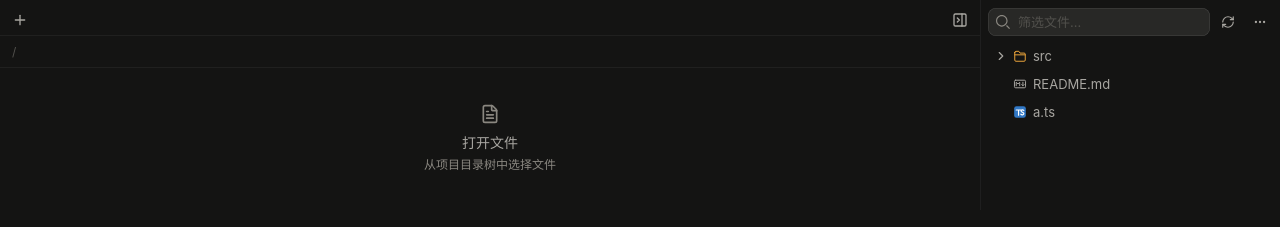
Scenario: FilesPane › filters through files.search as you type
Type "deep" into the search field with placeholder "筛选文件…" at (1111, 22), box 1018,8 -> 1204,36
Wait 250 ms
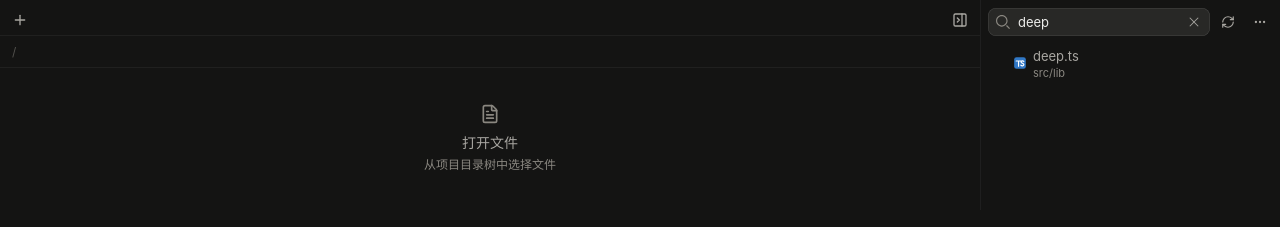
Now the text with class "file-tree-hint" reads "src/lib", box 1033,66 -> 1065,80
Press Escape in the search field named "筛选文件", box 1018,8 -> 1176,36
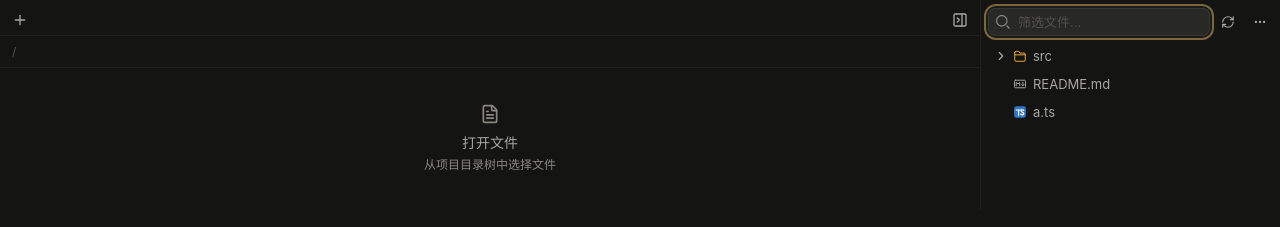
Now the search field with placeholder "筛选文件…" is empty, box 1018,8 -> 1204,36
Now the number of list items with class "file-tree-row" is 3, box 986,42 -> 1274,70; 986,70 -> 1274,98; 986,98 -> 1274,126
